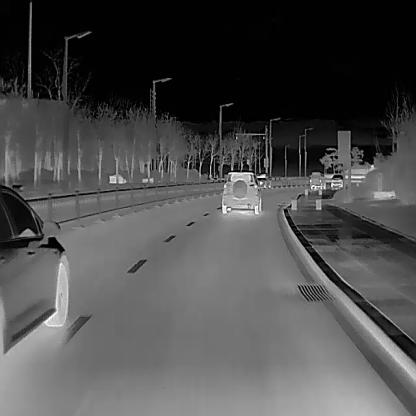car: (0, 184, 77, 359), (222, 171, 261, 213), (256, 172, 271, 188), (330, 174, 343, 188), (108, 173, 126, 183), (142, 177, 153, 183)
truck: (310, 172, 326, 188)
